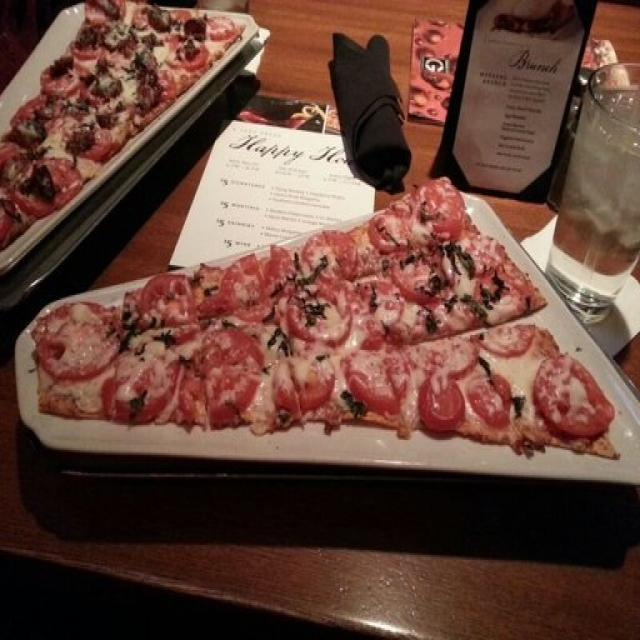Basil: (444, 246, 476, 276), (343, 391, 367, 418), (129, 390, 149, 420), (466, 294, 487, 321), (483, 279, 503, 306), (304, 304, 328, 326), (514, 394, 532, 422), (292, 268, 318, 284), (427, 280, 446, 300), (156, 331, 172, 350), (428, 311, 438, 335), (479, 359, 491, 374)
Pizza: (30, 180, 616, 460), (0, 0, 245, 261)
Tomato: (536, 353, 610, 442), (42, 302, 120, 374), (114, 354, 176, 420), (212, 331, 256, 421), (229, 245, 286, 311), (20, 159, 80, 212), (408, 189, 469, 233), (367, 347, 407, 412), (384, 254, 442, 298), (298, 291, 346, 337), (286, 356, 330, 406), (143, 278, 194, 319), (320, 230, 355, 284), (354, 280, 401, 320), (472, 379, 510, 425), (368, 210, 411, 245), (428, 381, 463, 422), (423, 340, 465, 368), (489, 326, 529, 352), (463, 243, 508, 265), (15, 101, 43, 129), (39, 73, 74, 94), (86, 133, 112, 158), (174, 60, 207, 67)
